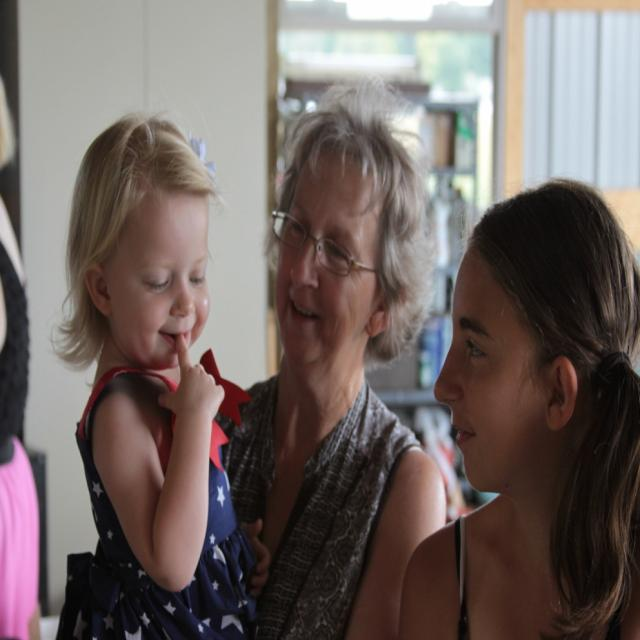Glasses: (269, 216, 398, 288)
